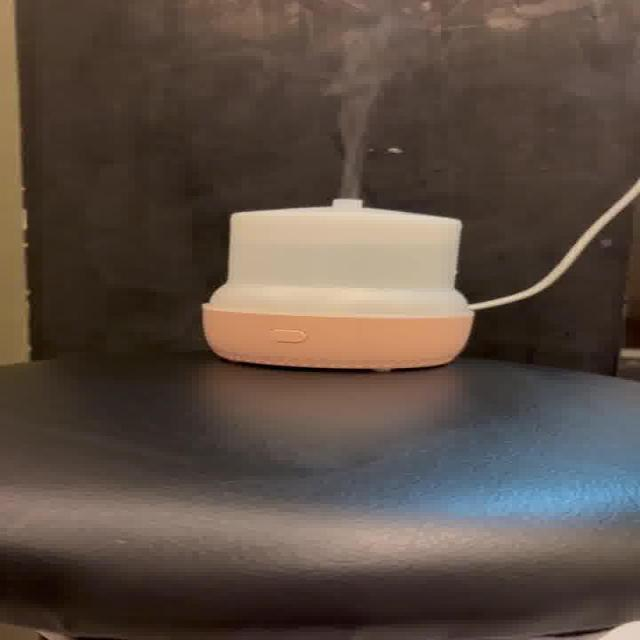fire: (329, 59, 386, 192)
